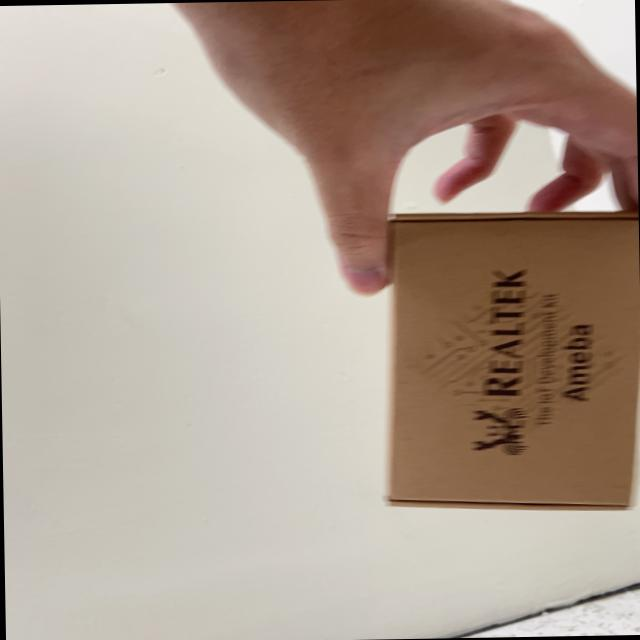box: (370, 191, 640, 529)
